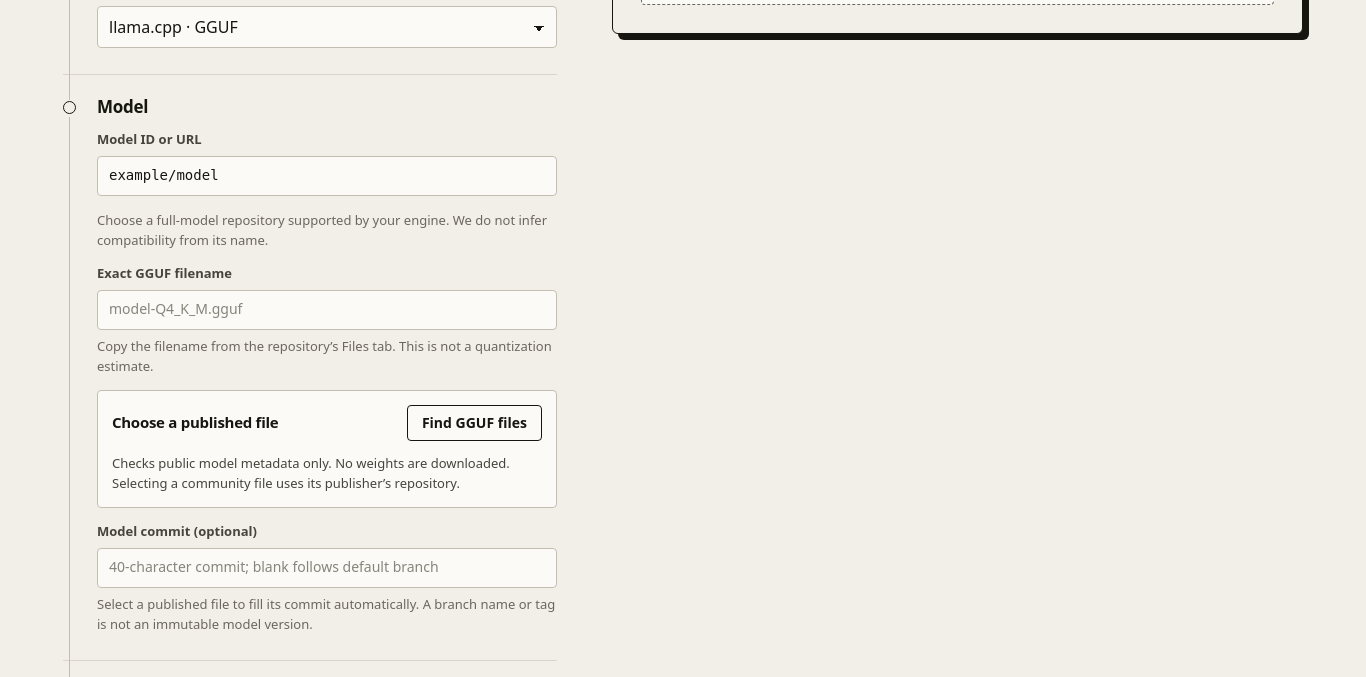
Scenario: deployment workbench › prefills detail-page seeds but waits for an exact artifact before generating a plan
(page scrolled)
Check: the field labelled "Model ID or URL" holds "example/model", box [97, 156, 557, 196]
Check: the button "Copy runbook" is not shown
Type "model.gguf" into the field labelled "Exact GGUF filename".
click(327, 310); type("model.gguf")  # box [97, 290, 557, 330]
(page scrolled)
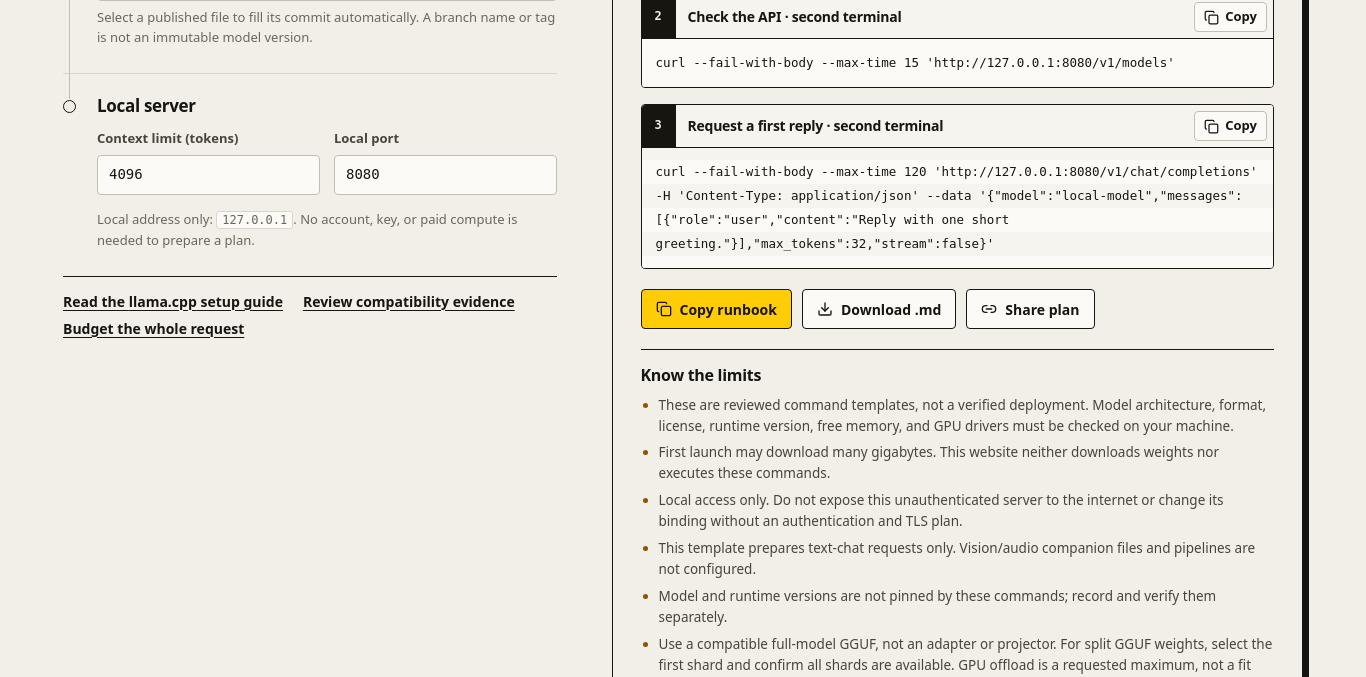
Check: the button "Copy runbook" is shown, box [640, 289, 792, 329]
